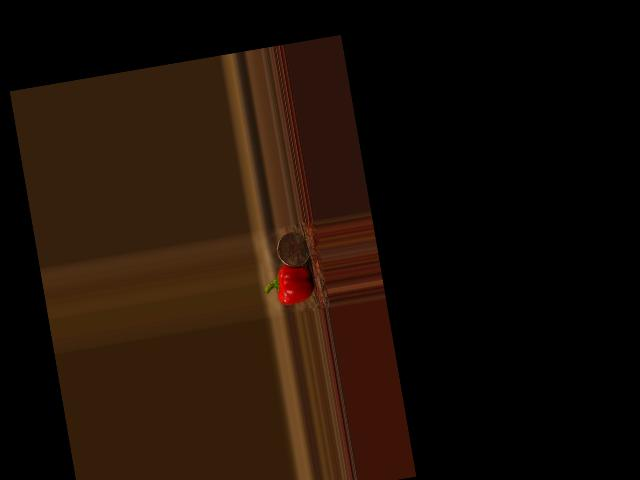bell_pepper: (261, 262, 317, 308)
